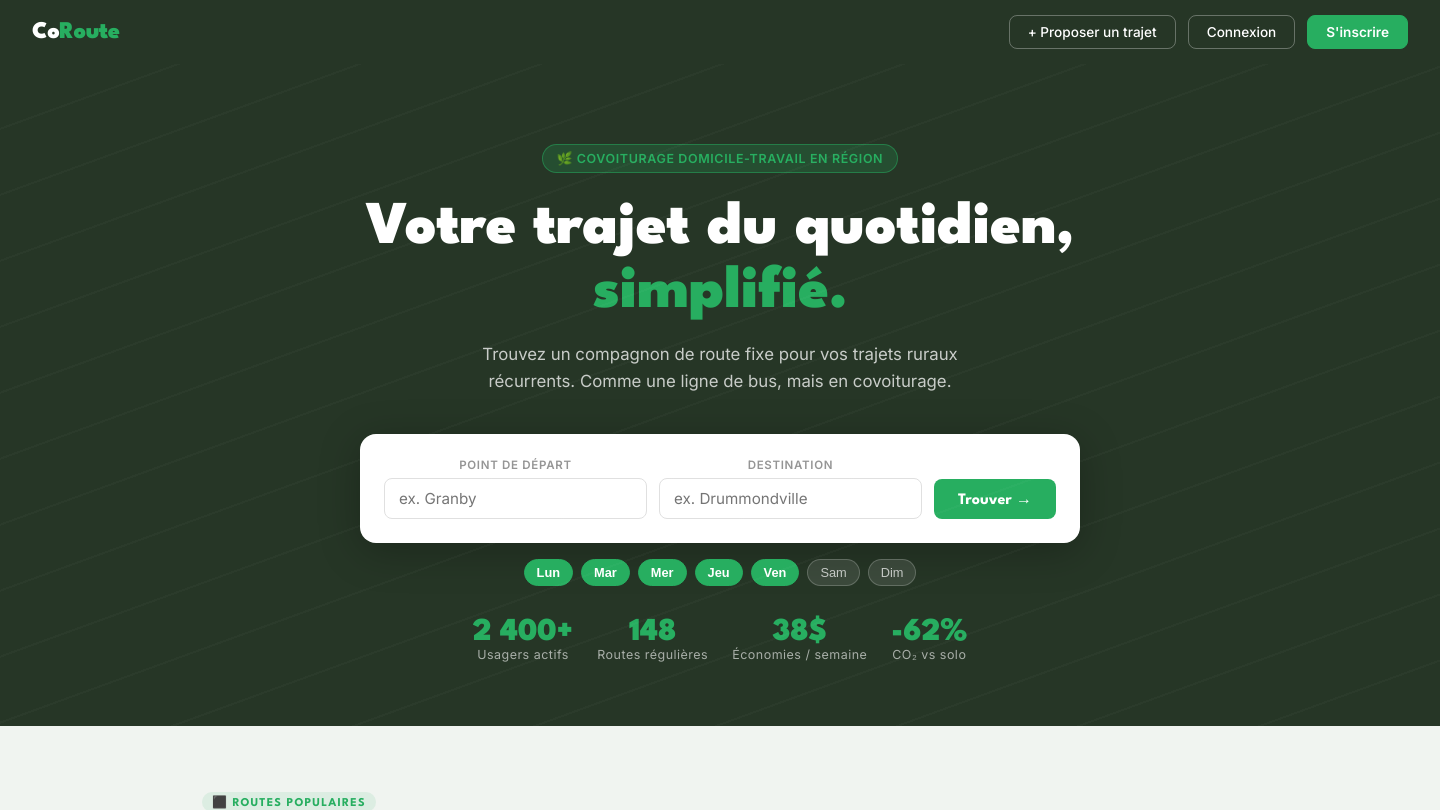
Test: App › affiche l'état vide si la recherche ne retourne rien
Click the button "Trouver →".
click(995, 499)  # box [934, 479, 1056, 519]
(page scrolled)
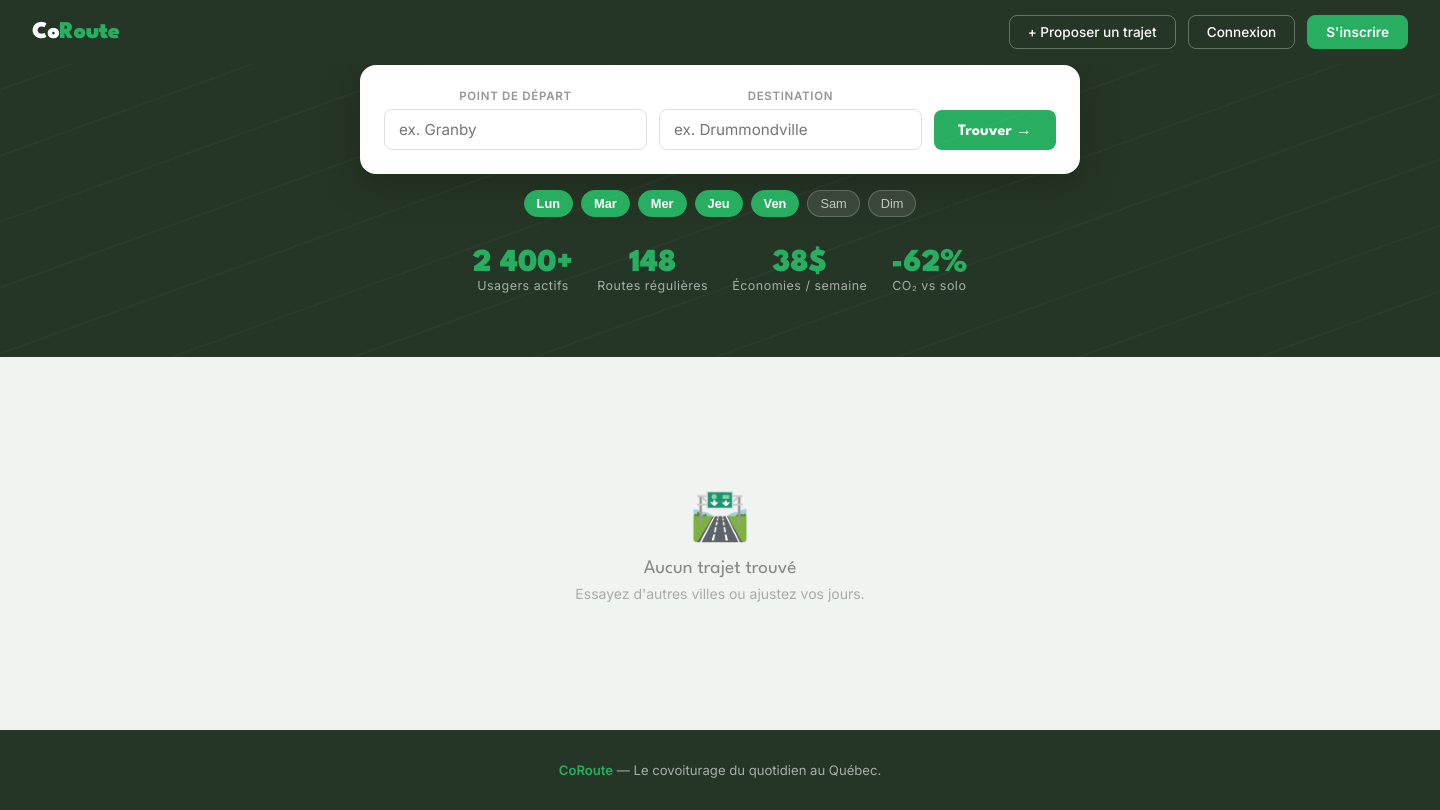
Result: the text "Aucun trajet trouvé" is shown at [644, 560, 796, 577]
